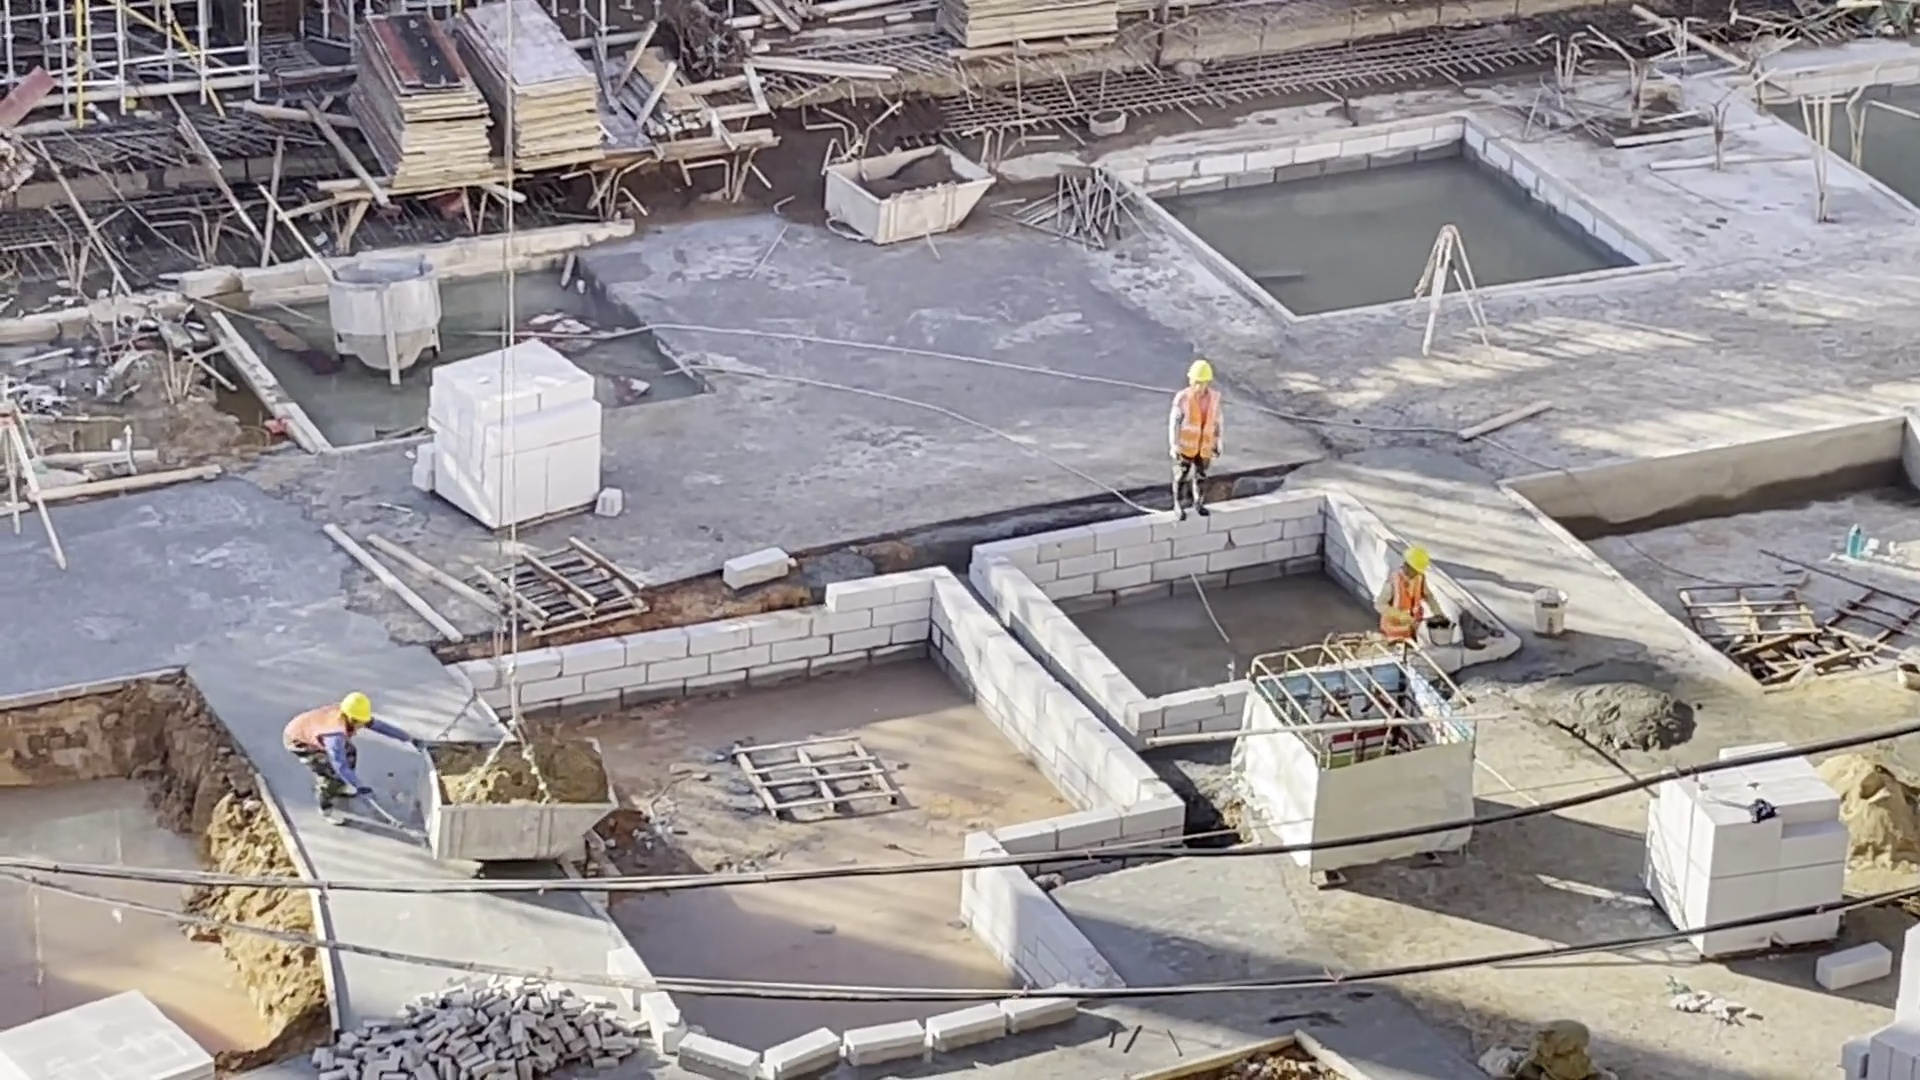board: (338, 11, 495, 191), (449, 1, 611, 175), (930, 1, 1128, 57)
brick: (423, 334, 605, 537), (1643, 786, 1850, 912), (1, 988, 221, 1078)
helmet: (337, 691, 374, 723), (1402, 544, 1430, 573), (1185, 358, 1214, 382)
hopper: (411, 728, 618, 868), (814, 141, 995, 249), (329, 254, 436, 378)
person: (280, 687, 425, 828), (1169, 356, 1229, 517), (1374, 541, 1434, 648)
vest: (1172, 384, 1219, 461), (288, 700, 346, 751), (1383, 571, 1426, 636)
